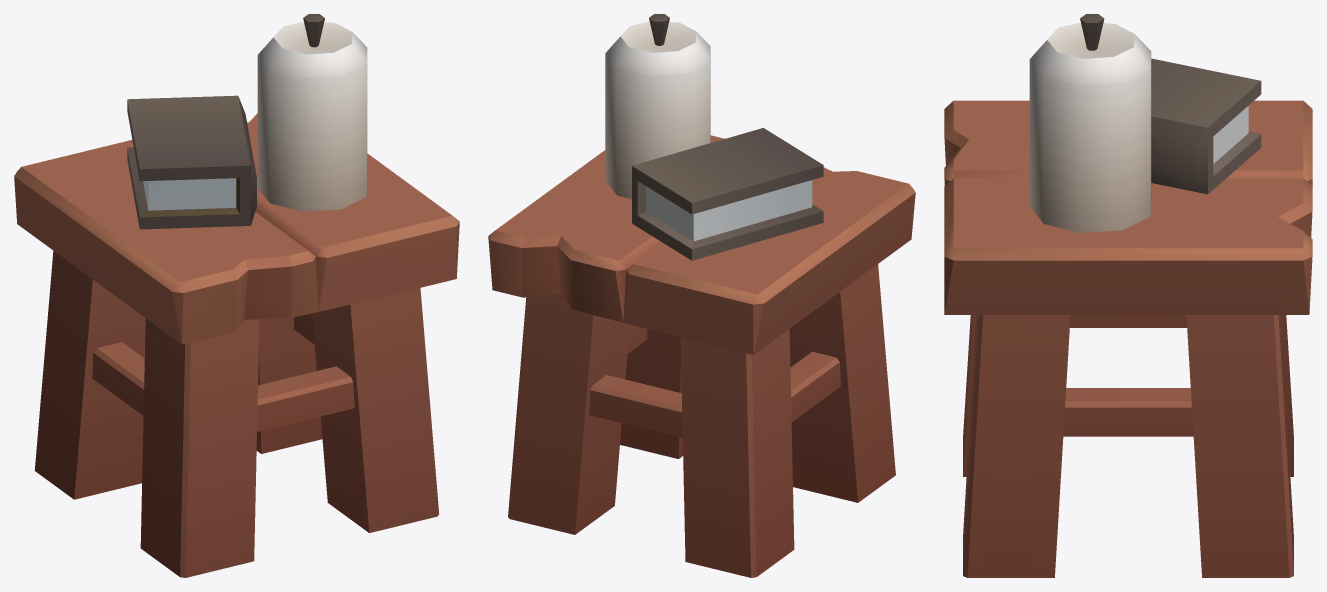
File: table_small_decorated_c.glb
3 renders of one model, left to right at view 1: azimuth 30°, elevation 25°; view 2: azimuth 150°, elevation 25°; view 3: azimuth 270°, elevation 25°, orthographic. The views are drawn at different scales.
Parts seen in each view (by area): view 1: table_small_decorated_C; view 2: table_small_decorated_C; view 3: table_small_decorated_C.
Boxes of the visible parts, box(x1,y1,x2,y2) form: table_small_decorated_C: box(14, 14, 459, 577); table_small_decorated_C: box(488, 14, 915, 577); table_small_decorated_C: box(944, 14, 1312, 577).
Size of the model in its own units: 0.9999 by 1.57 by 0.9999.
1 material, 1 textured.
